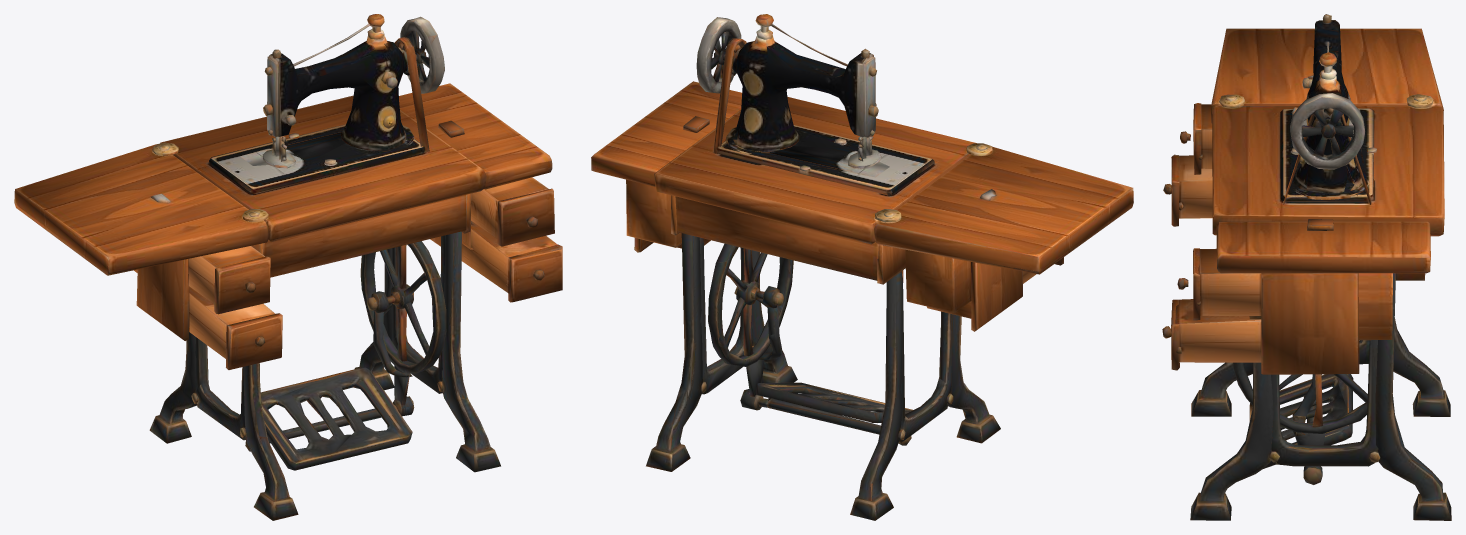
File: sewing_machine.glb
The picture shows the model from 3 angles, left to right: view 1: azimuth 30°, elevation 25°; view 2: azimuth 150°, elevation 25°; view 3: azimuth 270°, elevation 25°; orthographic projection. The views are drawn at different scales.
Visible parts, largest first — view 1: Mesh0; view 2: Mesh0; view 3: Mesh0.
Boxes of the visible parts, bbox=[...] form: Mesh0: bbox=[14, 14, 562, 520]; Mesh0: bbox=[591, 14, 1133, 520]; Mesh0: bbox=[1162, 14, 1451, 520].
Size of the model in its own units: 1 by 0.909 by 0.5458.
Materials: 1 (1 with a texture image).
